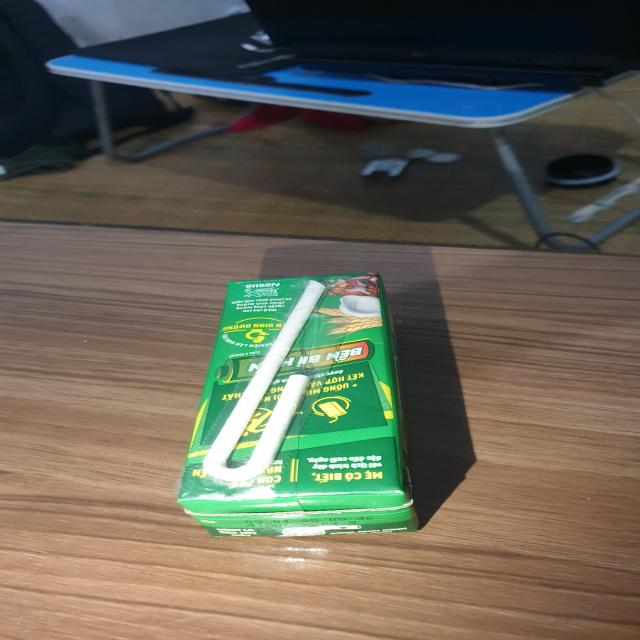Milo: (182, 273, 410, 546)
